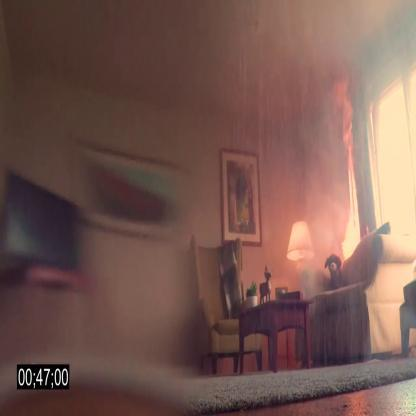fire: (330, 77, 374, 282)
smoke: (283, 208, 313, 269)
